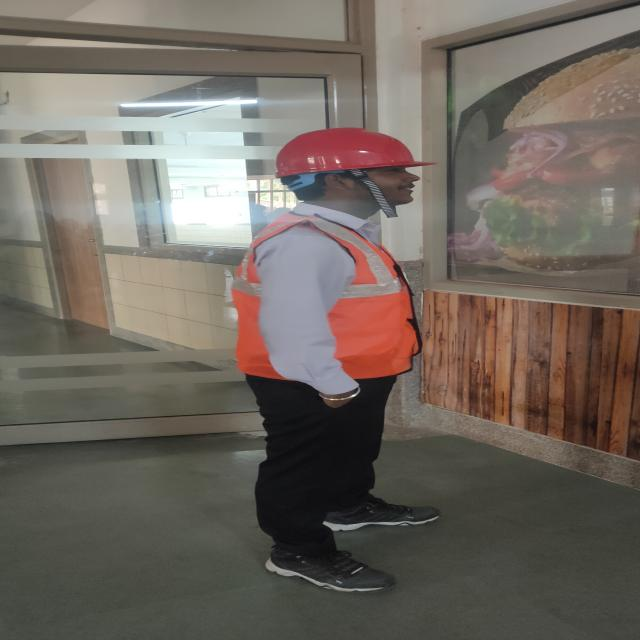safe: (237, 128, 436, 591)
